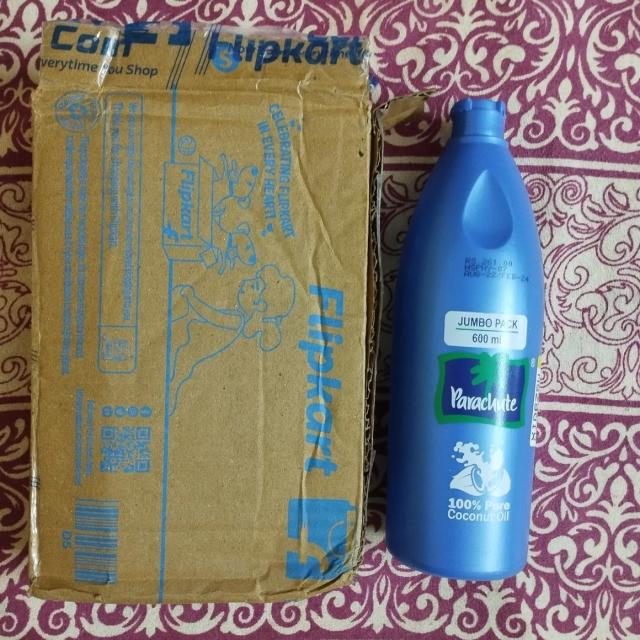parachute_oil: (392, 95, 544, 588)
